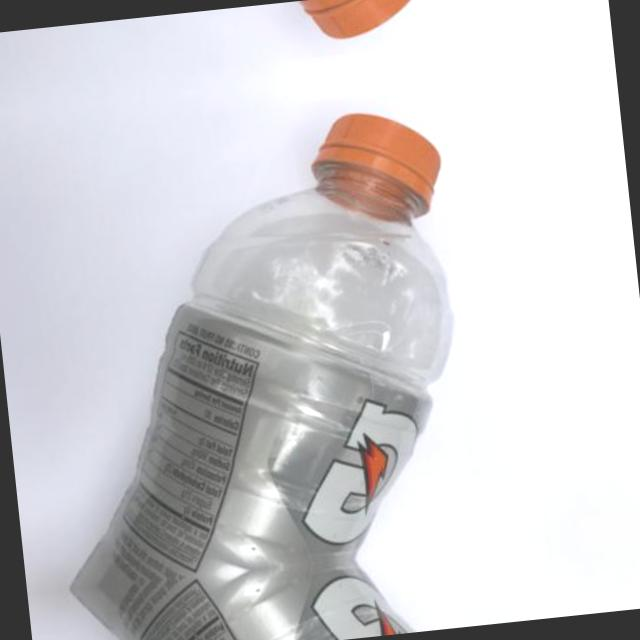Plastic: (0, 85, 552, 590), (44, 537, 560, 640), (0, 0, 499, 85)
